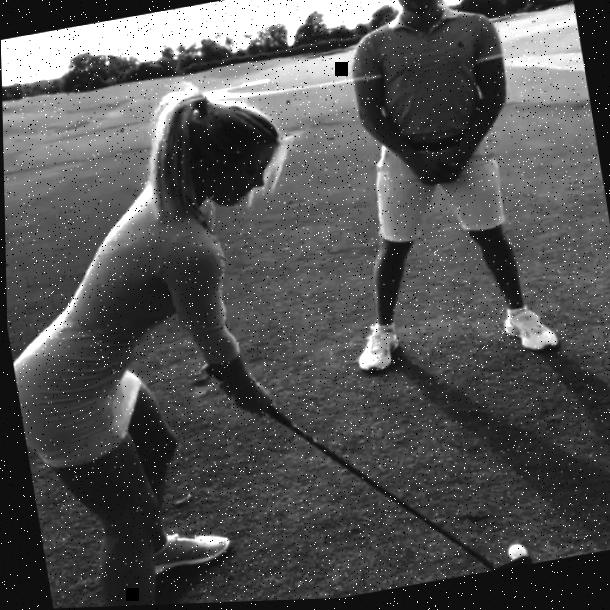ClubHead: (493, 560, 529, 574)
GolfBall: (506, 546, 526, 563)
